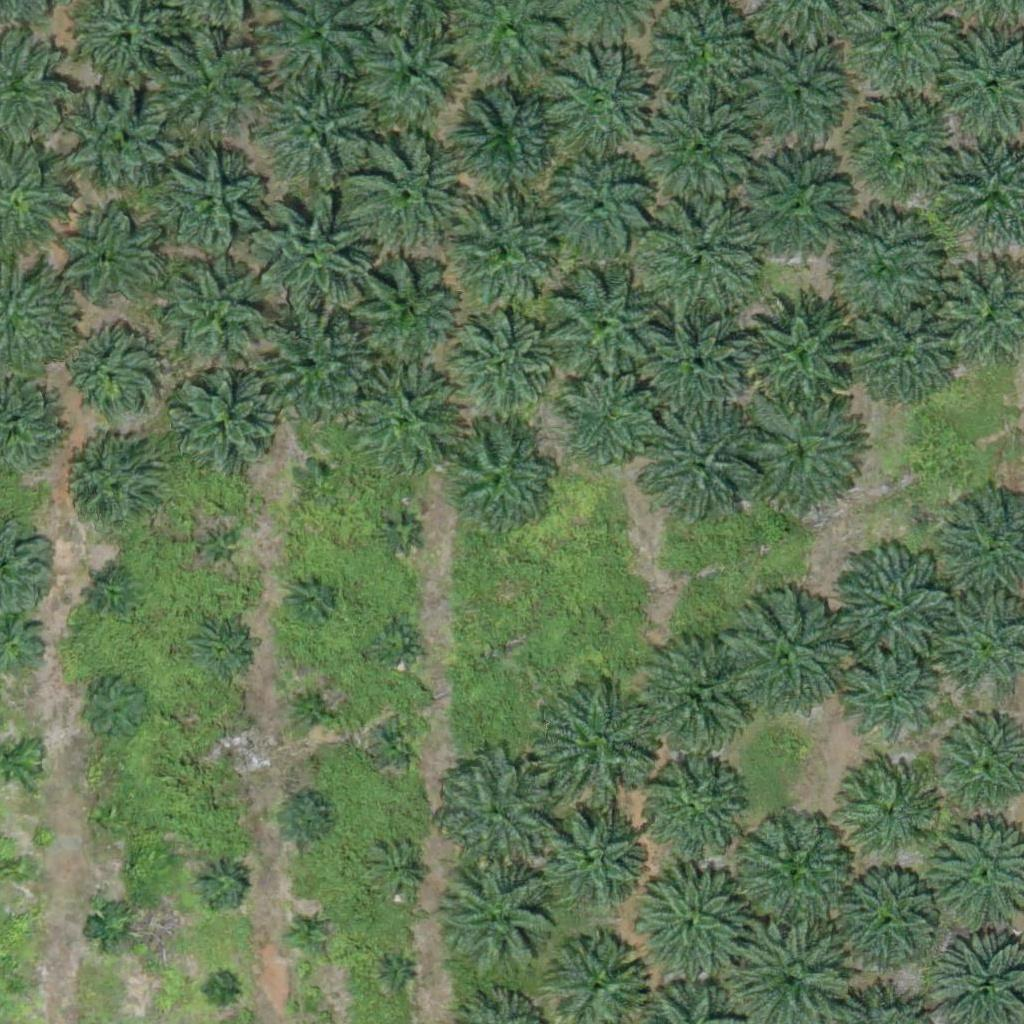Kelapa_Sawit: (154, 255, 279, 381), (255, 64, 380, 190), (250, 199, 375, 325), (250, 314, 375, 440), (351, 8, 476, 134), (347, 129, 472, 255), (337, 242, 462, 368), (533, 46, 658, 172), (538, 266, 663, 392), (643, 86, 768, 212), (642, 194, 767, 320), (638, 402, 763, 528), (737, 287, 862, 413), (741, 391, 866, 517), (828, 545, 953, 671), (722, 598, 847, 724), (539, 683, 664, 809), (731, 806, 856, 932), (829, 87, 954, 212), (818, 205, 943, 330), (439, 303, 552, 417), (451, 196, 564, 310), (552, 365, 665, 479), (641, 637, 754, 751), (57, 80, 170, 193), (171, 370, 284, 483), (443, 422, 556, 535), (454, 84, 567, 197), (738, 150, 851, 263), (739, 36, 852, 149), (844, 295, 957, 408), (631, 864, 744, 977), (151, 31, 263, 145), (153, 144, 265, 257), (350, 370, 462, 483), (544, 154, 656, 267), (636, 310, 748, 423), (440, 756, 552, 869), (449, 862, 561, 975), (56, 208, 156, 309), (58, 325, 158, 426), (56, 438, 156, 539), (839, 647, 939, 748), (542, 806, 642, 907), (837, 762, 937, 862), (835, 871, 935, 971), (641, 755, 741, 855), (75, 671, 150, 746), (273, 788, 336, 851), (191, 619, 253, 682), (372, 845, 422, 896), (195, 858, 245, 909), (288, 680, 338, 731), (286, 571, 336, 621), (87, 905, 137, 955), (372, 718, 422, 768), (375, 508, 425, 558), (371, 619, 421, 669), (191, 523, 241, 573), (294, 454, 344, 504), (283, 908, 333, 958), (95, 801, 133, 839), (93, 577, 131, 614), (218, 734, 243, 759), (384, 963, 409, 988), (207, 977, 232, 1002), (6, 970, 31, 995), (6, 854, 31, 879)
